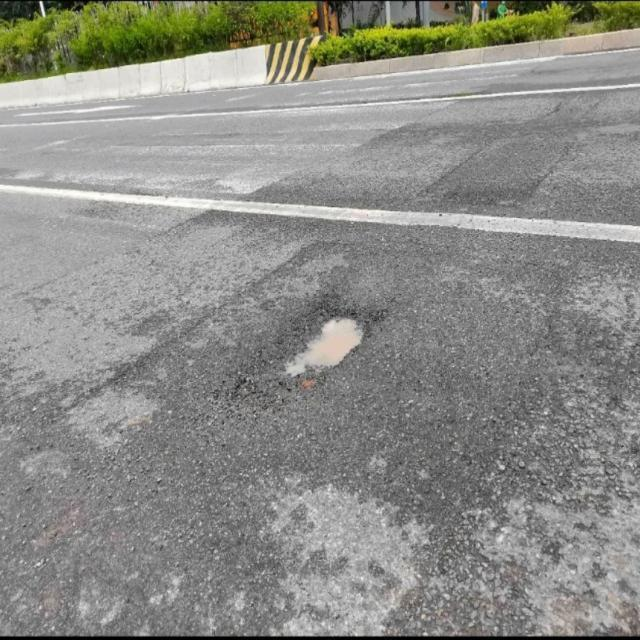pothole: (287, 312, 370, 388)
